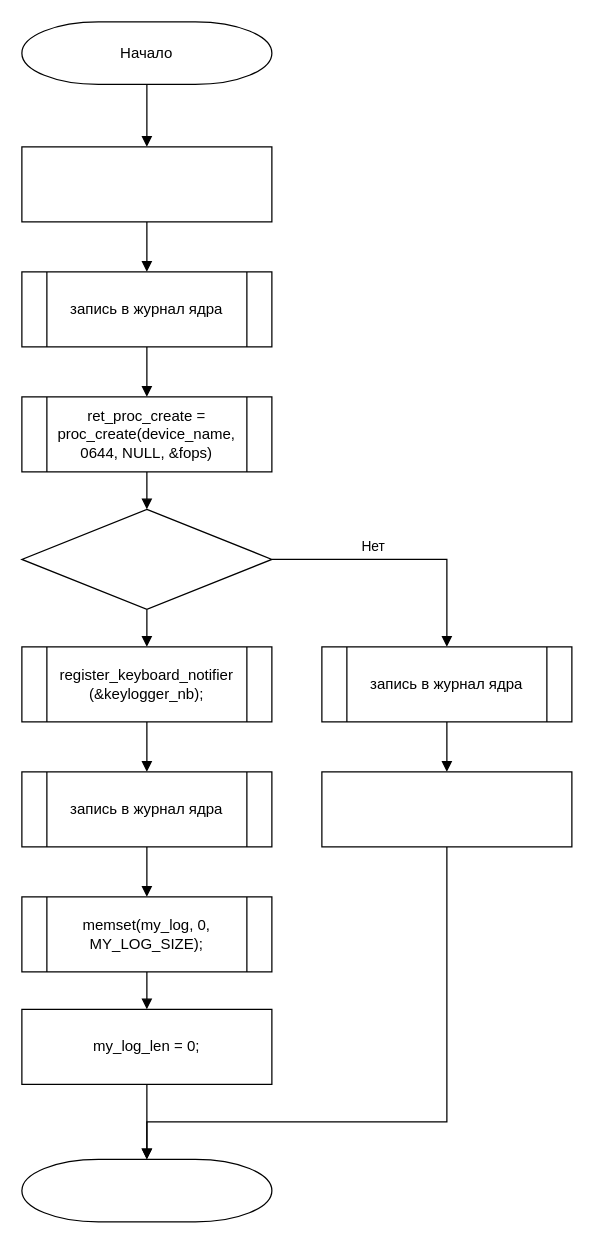
Image size: 594x1244. Some labels were removed from this diagram. Each missing label, with the box of its shape:
ret = -ENOMEM;: (321, 771, 572, 847)
ret = 0;: (21, 146, 272, 222)
ret_proc_create == 0: (21, 508, 272, 609)
Конец: (21, 1158, 272, 1222)
